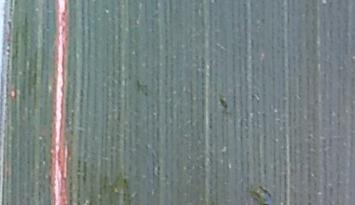tarspot: (218, 96, 230, 110)
